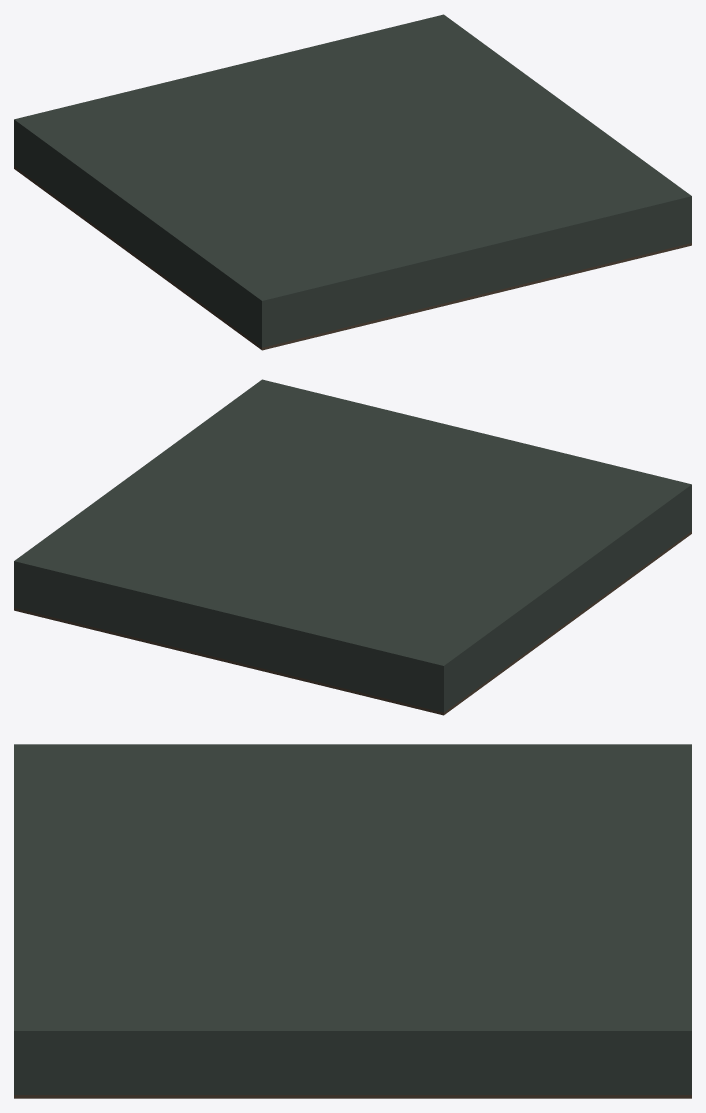
File: witch_level.fbx
3 renders of one model, top to bottom at view 1: azimuth 30°, elevation 25°; view 2: azimuth 150°, elevation 25°; view 3: azimuth 270°, elevation 25°, orthographic. The views are drawn at different scales.
Parts seen in each view (by area): view 1: GEO_roof, GEO_exteriorWall_4, GEO_exteriorWall_1, GEO_floor; view 2: GEO_roof, GEO_exteriorWall_3, GEO_exteriorWall_1, GEO_floor; view 3: GEO_roof, GEO_exteriorWall_2, GEO_floor.
Part boxes in pixels (x1,y1,x2,y2): GEO_roof: [14, 14, 691, 303]; GEO_exteriorWall_4: [261, 198, 691, 347]; GEO_exteriorWall_1: [14, 123, 263, 347]; GEO_floor: [14, 166, 691, 350]; GEO_roof: [14, 379, 691, 667]; GEO_exteriorWall_3: [14, 563, 444, 712]; GEO_exteriorWall_1: [442, 487, 691, 712]; GEO_floor: [14, 531, 691, 715]; GEO_roof: [14, 744, 691, 1034]; GEO_exteriorWall_2: [14, 1033, 691, 1094]; GEO_floor: [14, 1095, 691, 1098].
Bounding box in the file's own units: 5000 × 550 × 5000.
